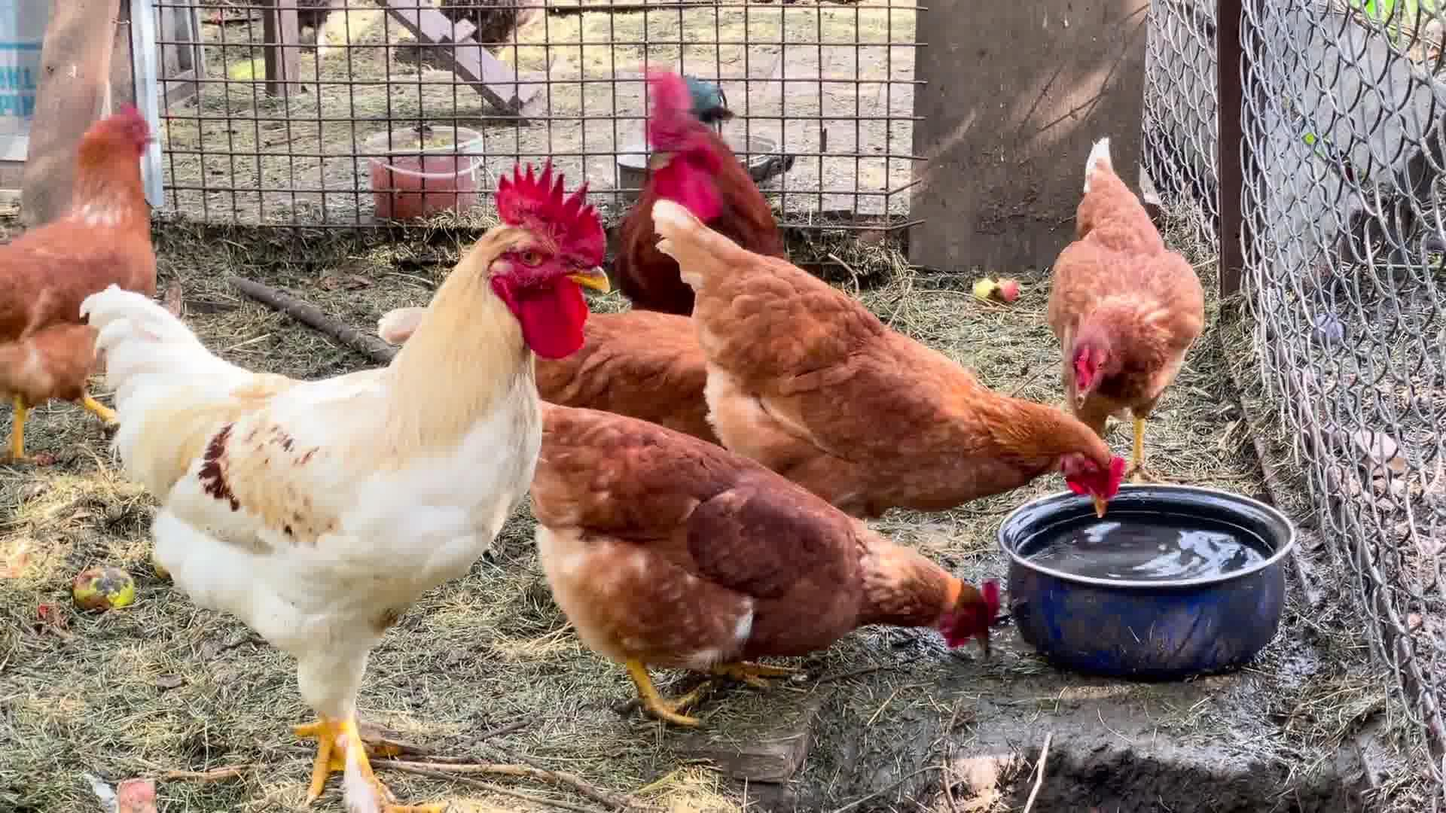Normal: (87, 157, 609, 812), (650, 198, 1140, 542), (550, 397, 1013, 705), (1032, 125, 1245, 482), (2, 104, 189, 482), (580, 64, 792, 291)
